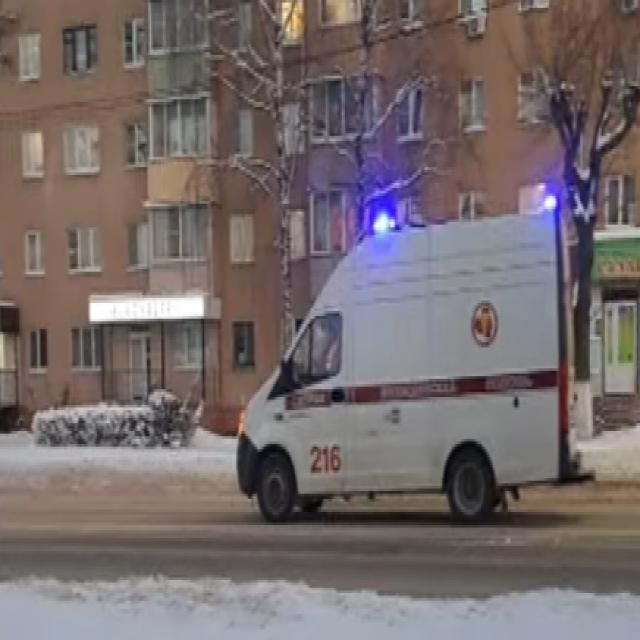ambulance: (239, 198, 576, 525)
